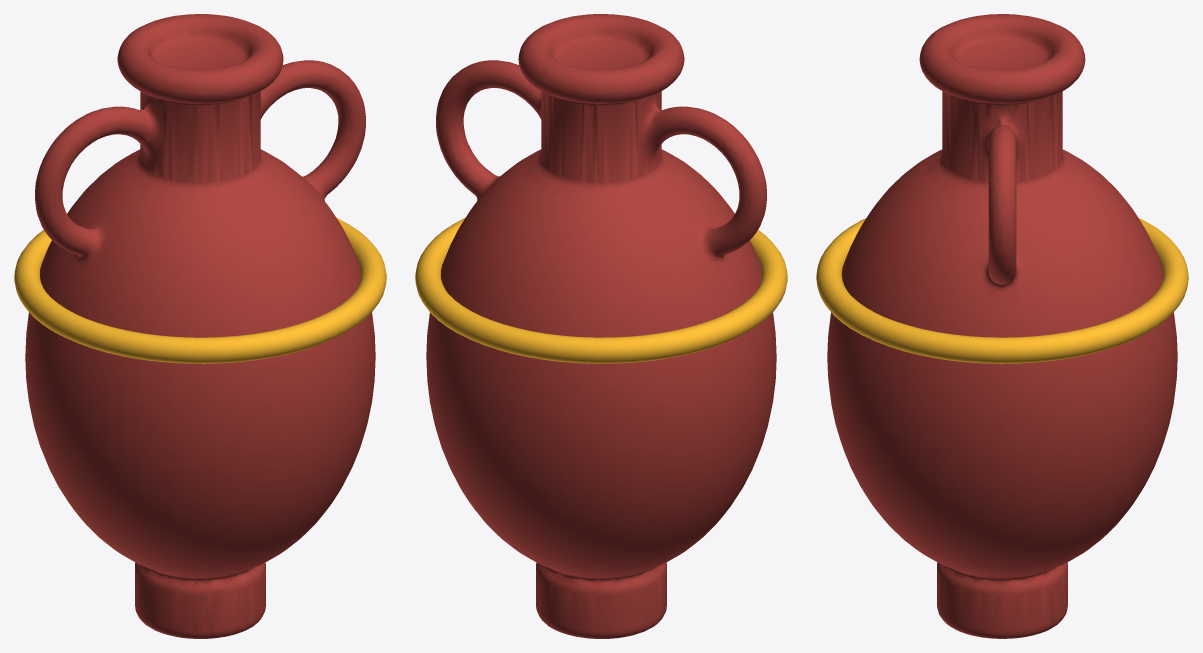
File: amphora.glb
3 views of the same model, side by side, from view 1: azimuth 30°, elevation 25°; view 2: azimuth 150°, elevation 25°; view 3: azimuth 270°, elevation 25° (orthographic).
Parts seen in each view (by area): view 1: Body, Band; view 2: Body, Band; view 3: Body, Band.
Part boxes in pixels (x1,y1,x2,y2): Body: (25, 14, 375, 638); Band: (14, 218, 386, 363); Body: (426, 14, 776, 638); Band: (415, 218, 787, 363); Body: (827, 14, 1177, 638); Band: (816, 218, 1188, 363).
Size of the model in its own units: 0.3458 by 0.5758 by 0.34.
